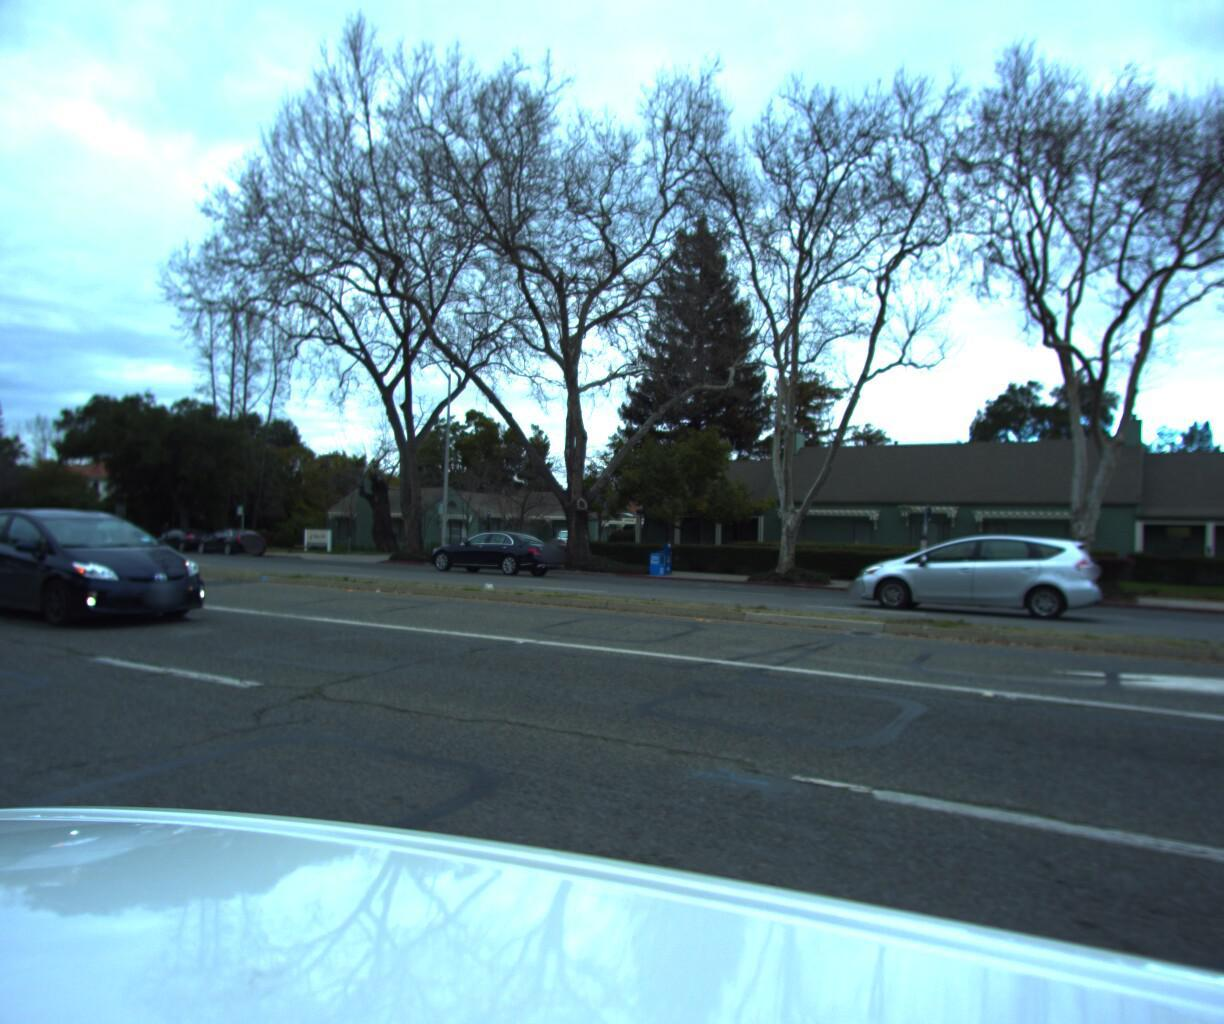car: (0, 509, 211, 642), (849, 526, 1110, 623), (421, 523, 569, 575), (187, 522, 269, 556), (145, 523, 217, 554)
